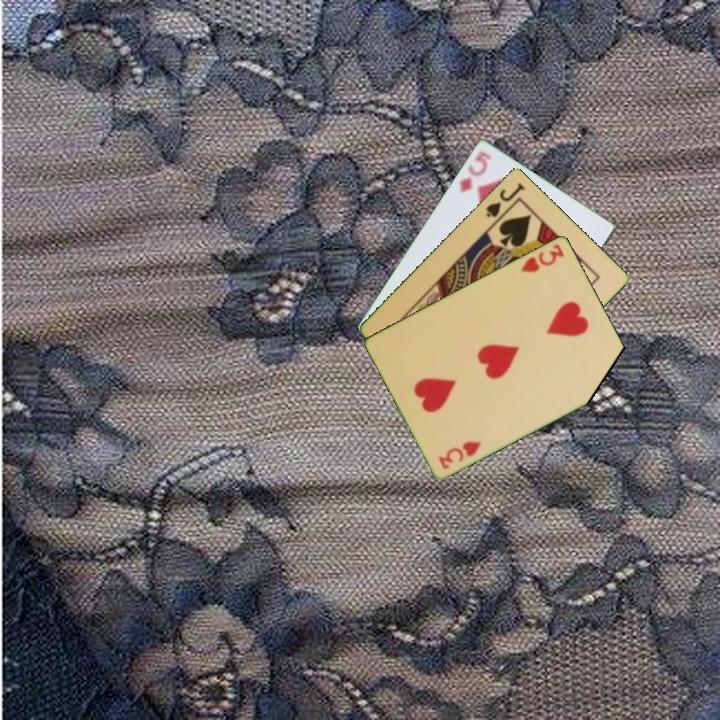3h: (517, 240, 567, 275), (435, 437, 484, 472)
5d: (456, 147, 494, 195)
Js: (482, 179, 528, 220)
